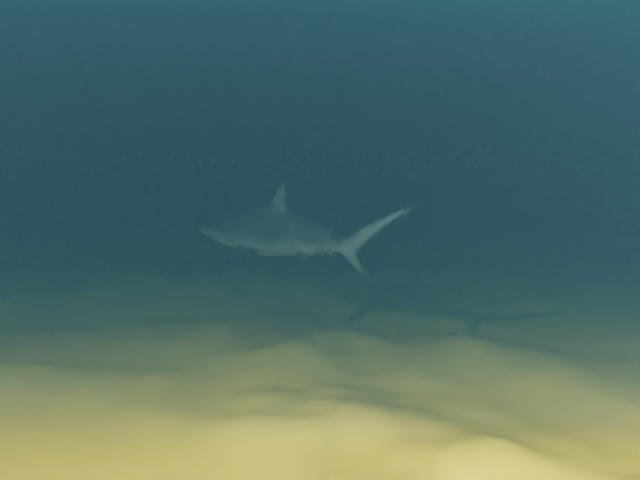Carribean Shark.001: (199, 180, 417, 279)
